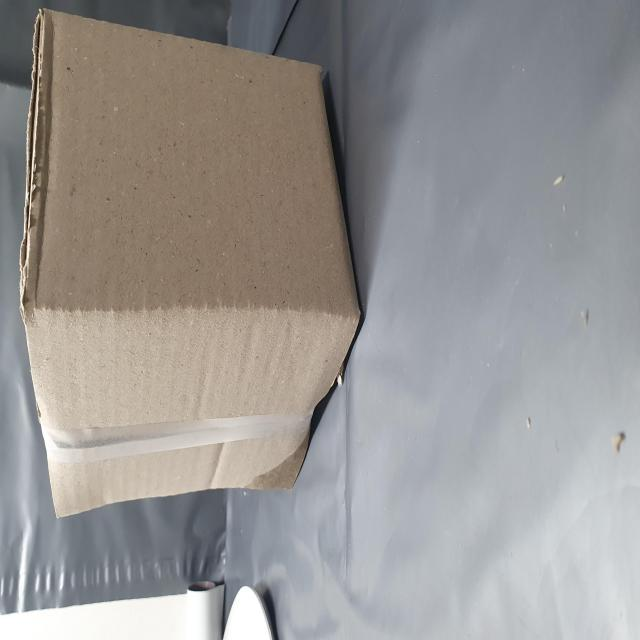wet: (82, 448, 106, 532)
